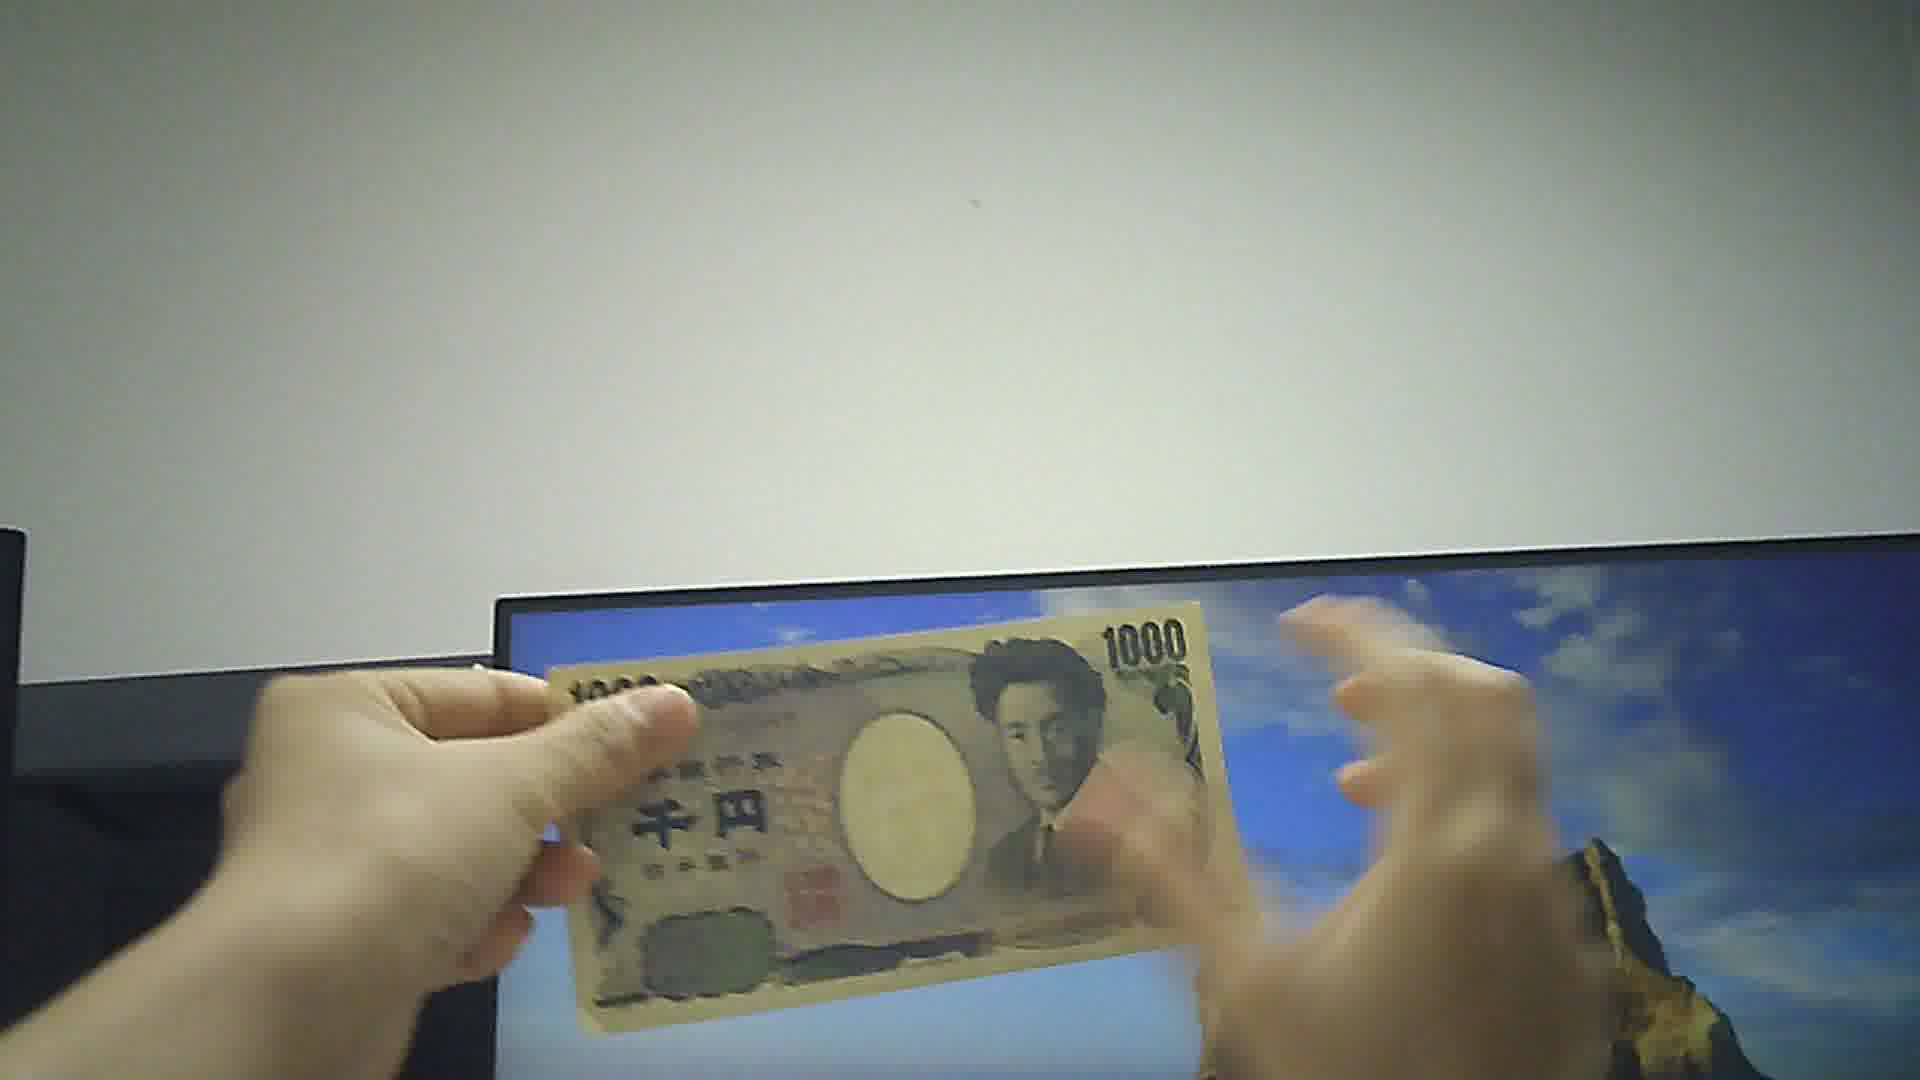1,000 Yen: (514, 607, 1273, 1033)
